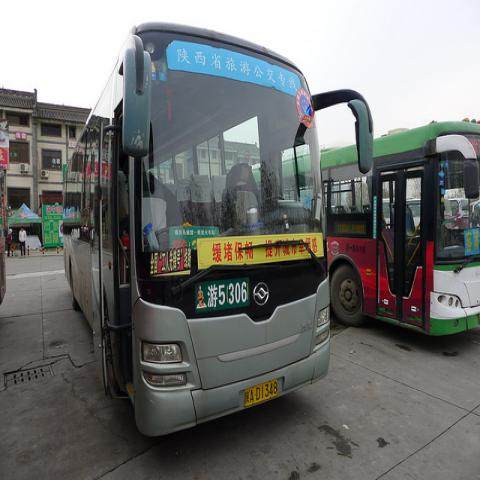bus: (61, 22, 374, 440), (318, 118, 480, 336)
